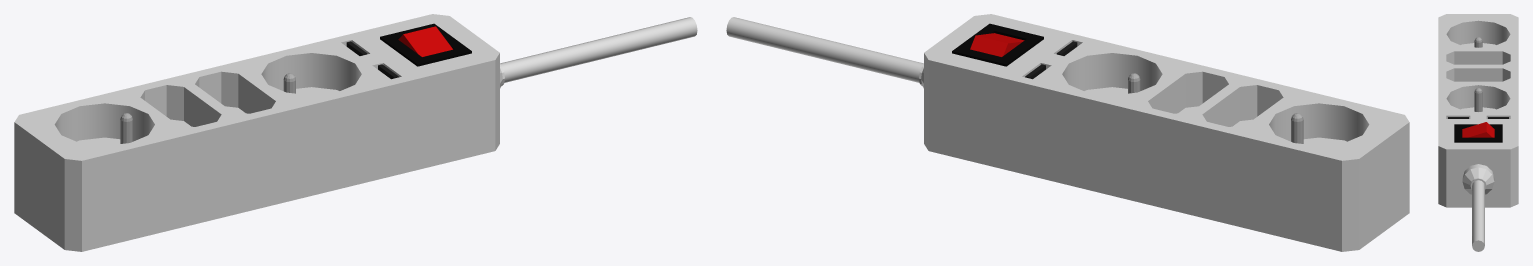
The model's file is 24_06_24 - 4-Outlet Power Strip with USB-A Charging.glb.
The picture shows the model from 3 angles, left to right: view 1: azimuth 30°, elevation 25°; view 2: azimuth 150°, elevation 25°; view 3: azimuth 270°, elevation 25°; orthographic projection. The views are drawn at different scales.
Visible parts, largest first — view 1: root; view 2: root; view 3: root.
Boxes of the visible parts, x1,y1,x2,y2 form: root: [14, 14, 697, 251]; root: [726, 14, 1409, 251]; root: [1438, 14, 1518, 251].
Bounding box in the file's own units: 0.3 × 0.045 × 0.05.
